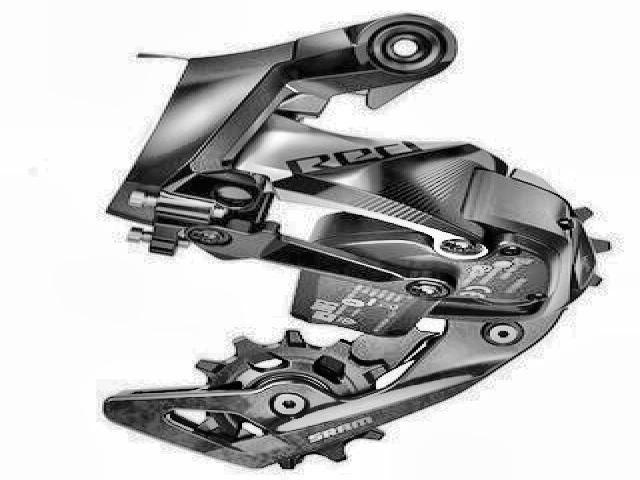rear_derailleur: (100, 11, 614, 473)
